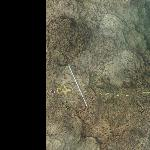dead: (47, 1, 146, 146)
